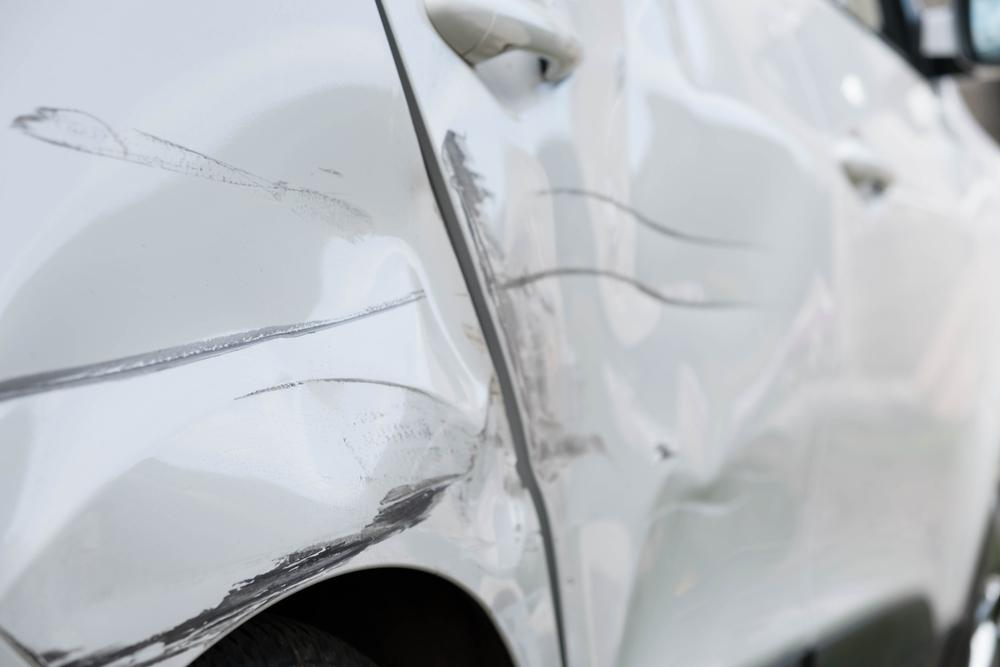dent: (0, 85, 555, 653), (446, 85, 815, 666)
scratch: (30, 531, 395, 667), (10, 103, 209, 176)
